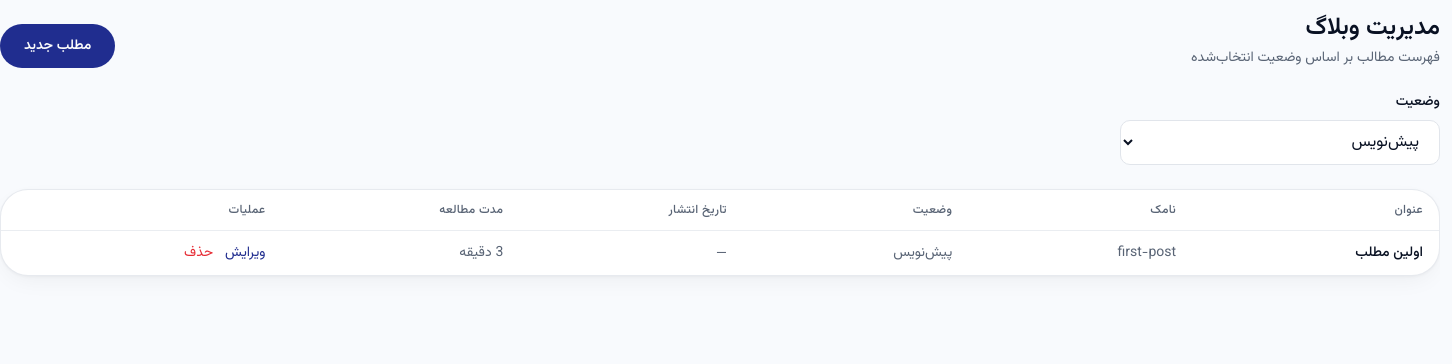
BlogListView › row workflow actions › surfaces a 403 from delete without dropping the row
Expected: the text "اولین مطلب" is shown, left=1192, top=231, right=1439, bottom=275
Click the button "حذف" at (199, 253), box left=184, top=243, right=213, bottom=263
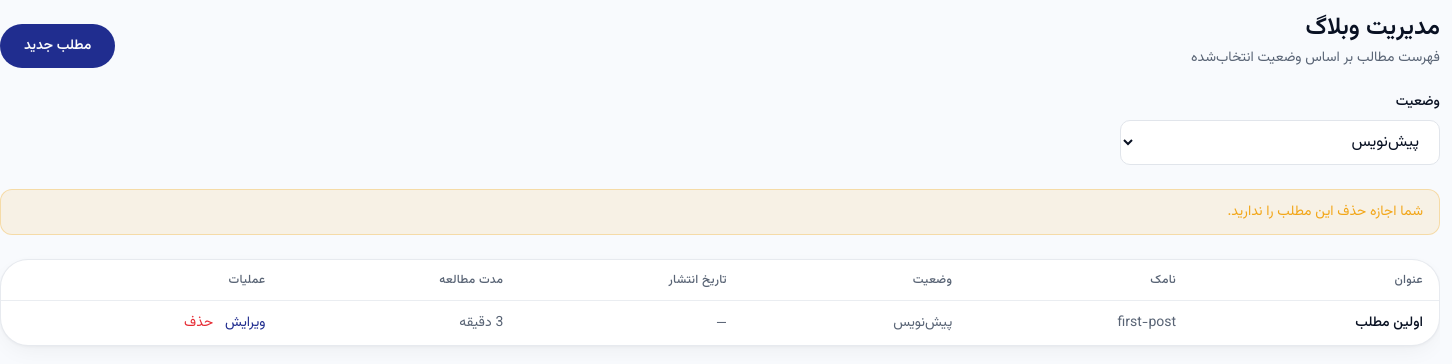
Expected: the text "اولین مطلب" is shown, left=1192, top=301, right=1439, bottom=345
Expected: the text "شما اجازه حذف این مطلب را ندارید." is shown, left=0, top=189, right=1440, bottom=235
